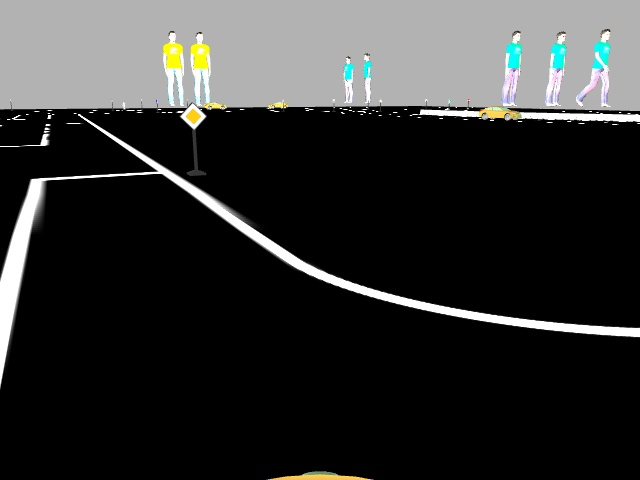Priority: (179, 104, 203, 130)
